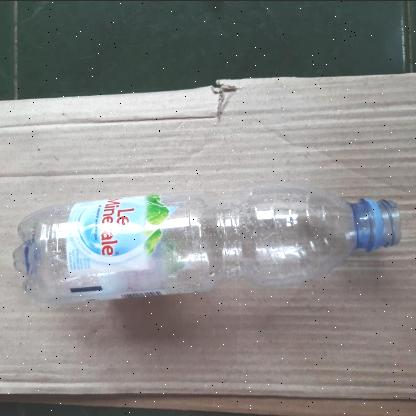Plastic Bottle: (0, 156, 416, 312)
